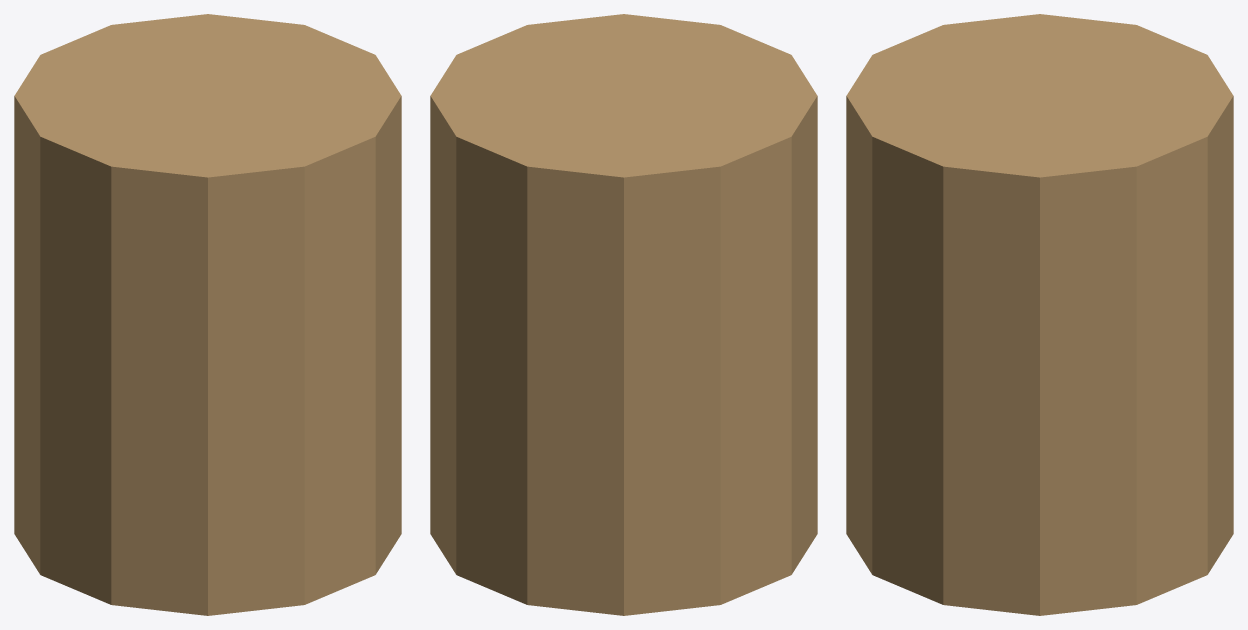
File: Barrel.glb
3 renders of one model, left to right at view 1: azimuth 30°, elevation 25°; view 2: azimuth 150°, elevation 25°; view 3: azimuth 270°, elevation 25°, orthographic.
Parts seen in each view (by area): view 1: filler_Barrel; view 2: filler_Barrel; view 3: filler_Barrel.
Boxes of the visible parts, <box> form: filler_Barrel: <box>14,14,401,615</box>; filler_Barrel: <box>430,14,817,615</box>; filler_Barrel: <box>846,14,1233,615</box>.
Bounding box in the file's own units: 0.88 × 1.1 × 0.88.
